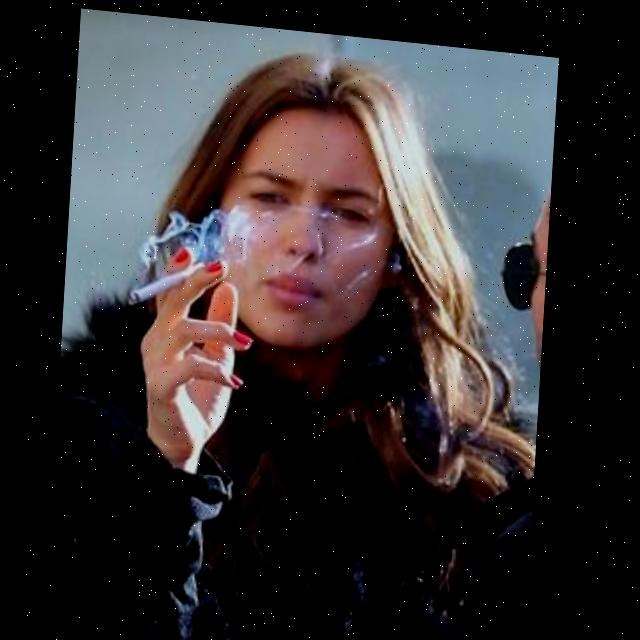cigarette: (131, 250, 205, 307)
